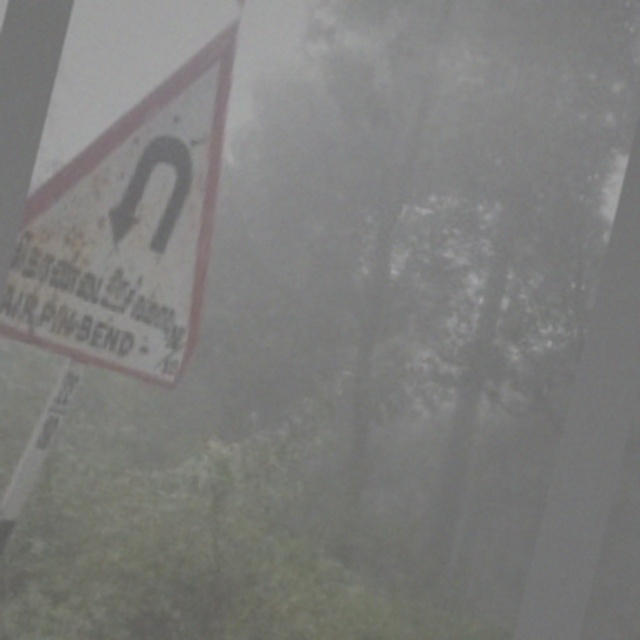Left_Hair_Pin_Bend: (63, 78, 262, 304)
